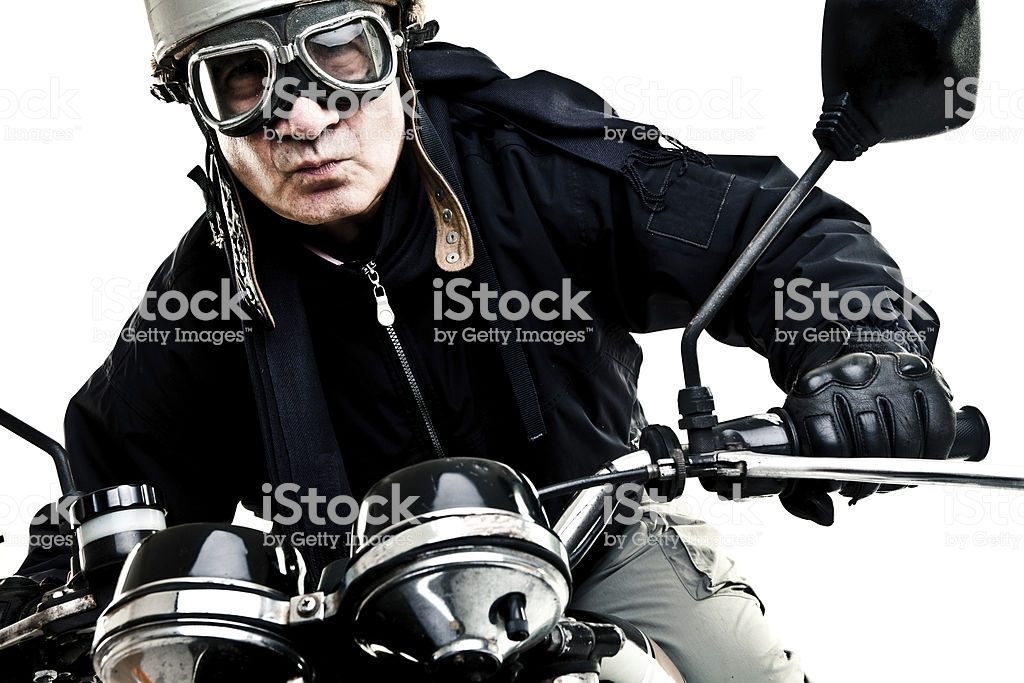helmet: (141, 1, 430, 43)
